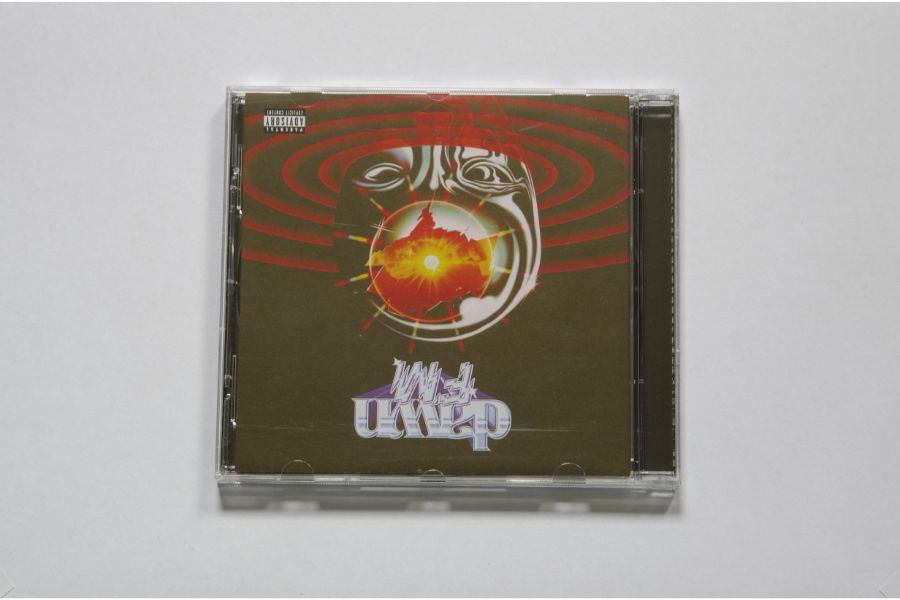album: (214, 83, 682, 506)
